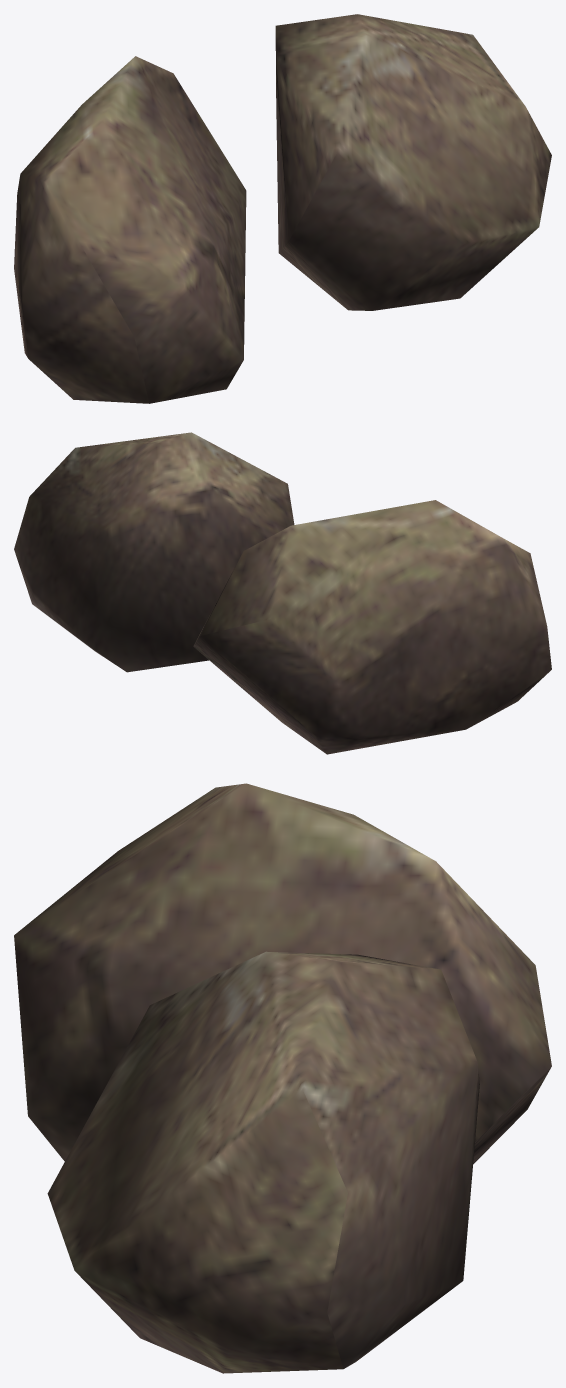
File: stone_003.FBX
The picture shows the model from 3 angles, top to bottom: view 1: azimuth 30°, elevation 25°; view 2: azimuth 150°, elevation 25°; view 3: azimuth 270°, elevation 25°; orthographic projection. The views are drawn at different scales.
Parts seen in each view (by area): view 1: stone_003_01; view 2: stone_003_01; view 3: stone_003_01.
Boxes of the visible parts, x1,y1,x2,y2 form: stone_003_01: (14,14,551,403); stone_003_01: (14,432,551,754); stone_003_01: (14,783,551,1373).
Bounding box in the file's own units: 1.37 × 0.6168 × 0.7942.
